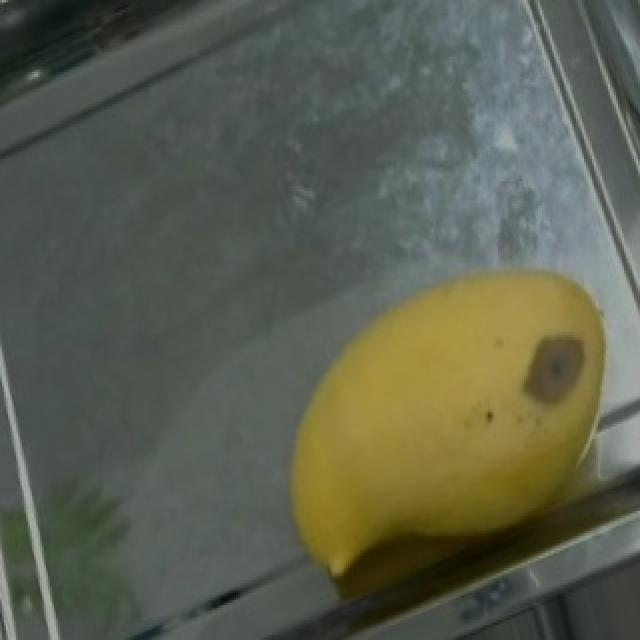fruit: (224, 206, 640, 605)
